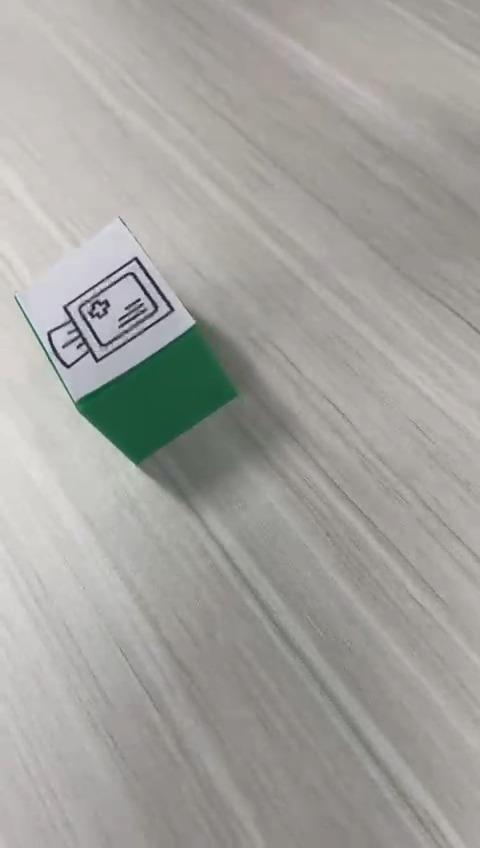Gauze: (13, 214, 239, 467)
